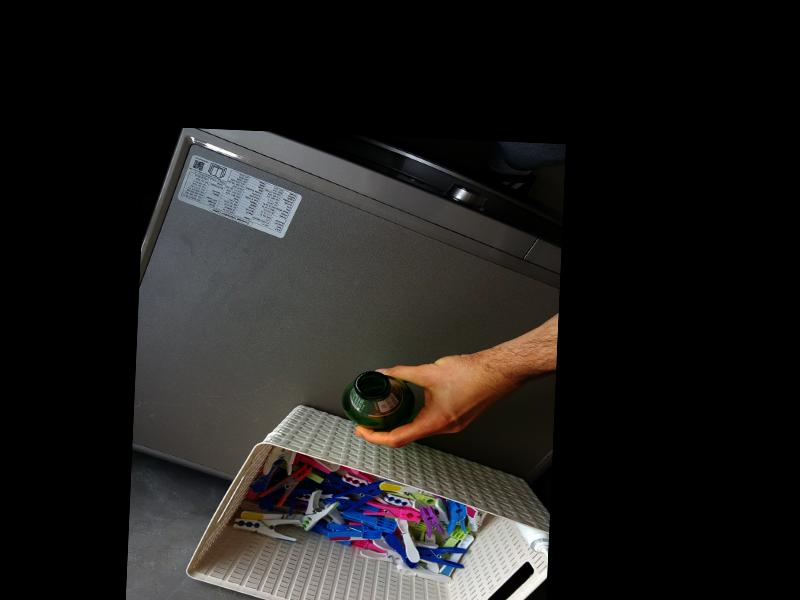Beer: (340, 368, 417, 432)
